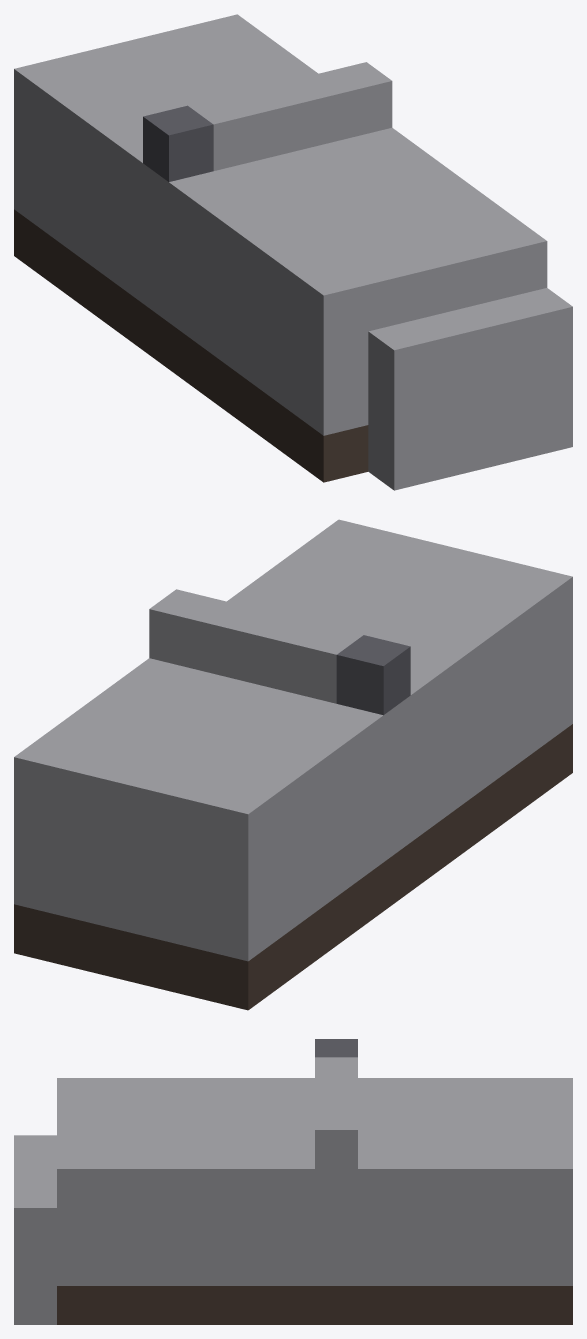
The model's file is chain_rare_boot_foot_L_lod1.glb.
3 views of the same model, one above another, from view 1: azimuth 30°, elevation 25°; view 2: azimuth 150°, elevation 25°; view 3: azimuth 270°, elevation 25° (orthographic). The views are drawn at different scales.
Visible parts, largest first — view 1: chain_rare_boot_foot_L_lod1; view 2: chain_rare_boot_foot_L_lod1; view 3: chain_rare_boot_foot_L_lod1.
Part boxes in pixels (x1,y1,x2,y2): chain_rare_boot_foot_L_lod1: [14, 14, 572, 490]; chain_rare_boot_foot_L_lod1: [14, 519, 572, 1010]; chain_rare_boot_foot_L_lod1: [14, 1039, 572, 1324].
Size of the model in its own units: 0.12 by 0.12 by 0.312.
